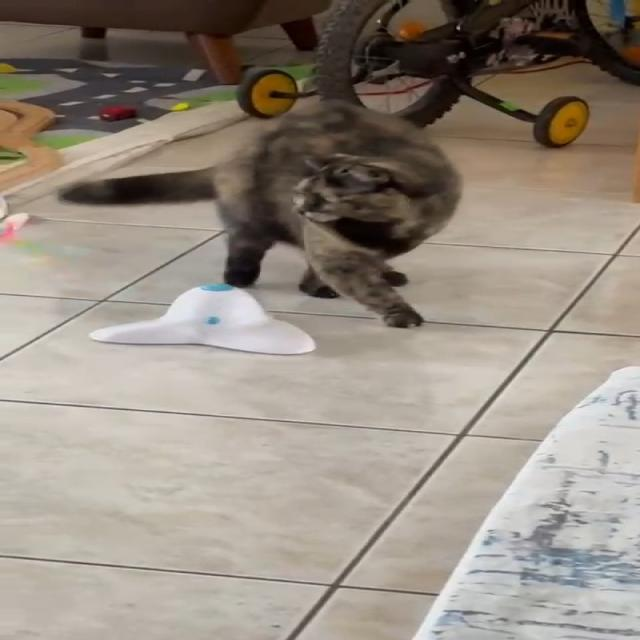authorized: (57, 97, 463, 328)
